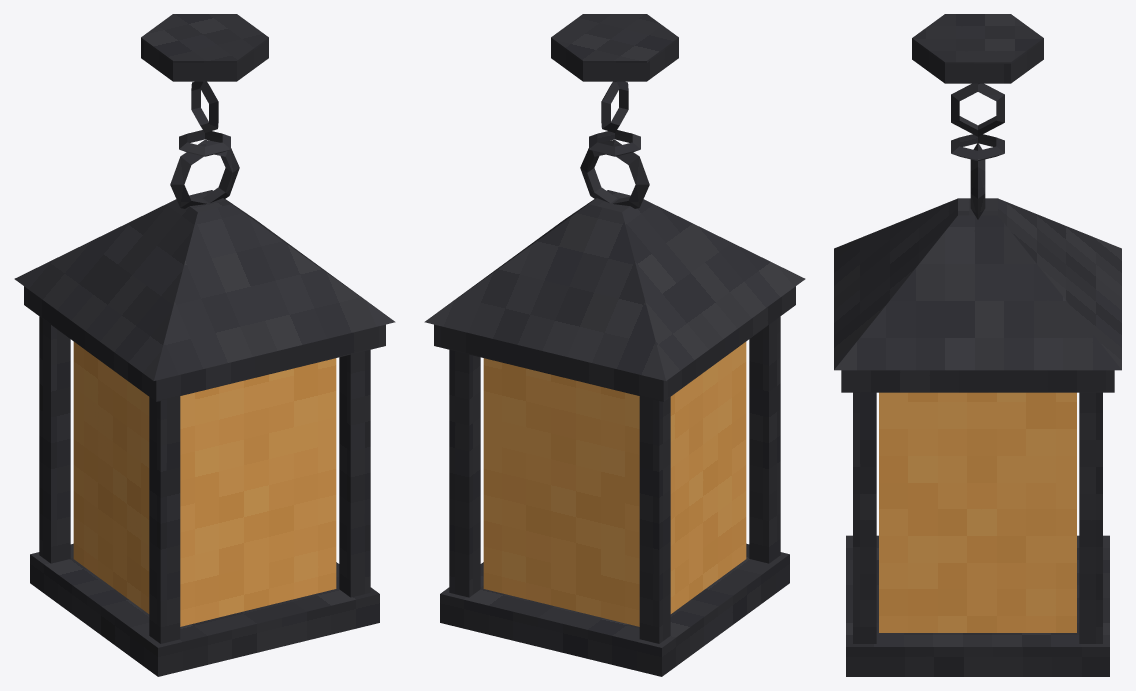
The model's file is lantern_hang.obj.
3 views of the same model, side by side, from view 1: azimuth 30°, elevation 25°; view 2: azimuth 150°, elevation 25°; view 3: azimuth 270°, elevation 25° (orthographic). The views are drawn at different scales.
Parts seen in each view (by area): view 1: lantern_hang; view 2: lantern_hang; view 3: lantern_hang.
Boxes of the visible parts, x1,y1,x2,y2 form: lantern_hang: (14, 14, 395, 676); lantern_hang: (424, 14, 805, 676); lantern_hang: (834, 14, 1121, 676).
Size of the model in its own units: 0.3055 by 0.6825 by 0.3055.
